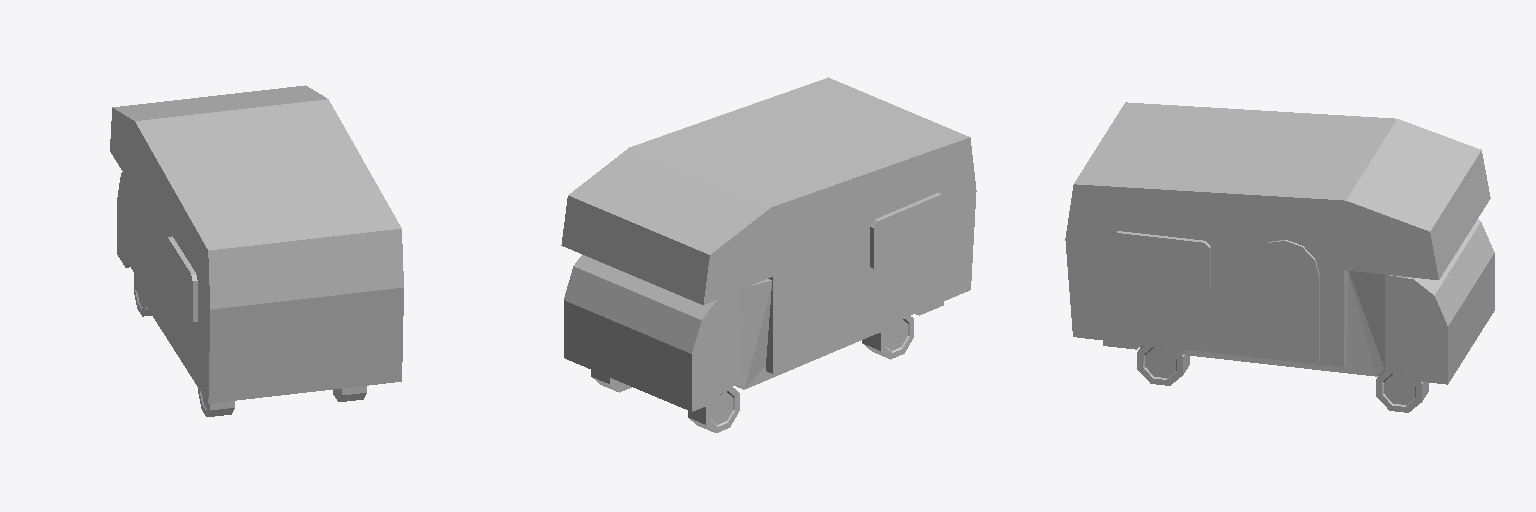
Rendered from Camper.obj.
3 renders of one model, left to right at view 1: azimuth 30°, elevation 25°; view 2: azimuth 150°, elevation 25°; view 3: azimuth 270°, elevation 25°, orthographic.
Visible parts, largest first — view 1: Caravan; view 2: Caravan; view 3: Caravan.
Boxes of the visible parts, x1=… form: Caravan: x1=110, y1=85, x2=403, y2=416; Caravan: x1=561, y1=77, x2=976, y2=432; Caravan: x1=1065, y1=102, x2=1494, y2=412.
Size of the model in its own units: 0.0549 by 0.0442 by 0.0803.